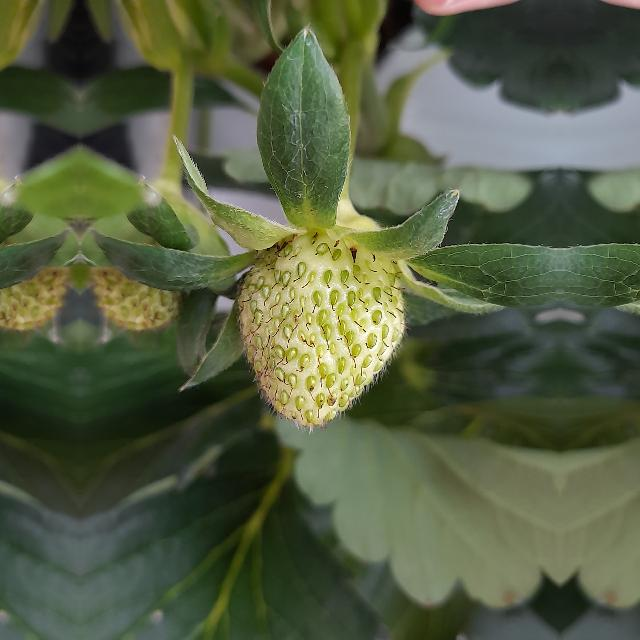Health_25: (234, 226, 411, 434)
